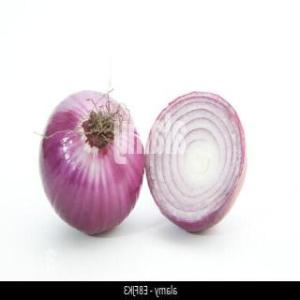onion: (37, 88, 146, 236), (145, 88, 247, 232)
